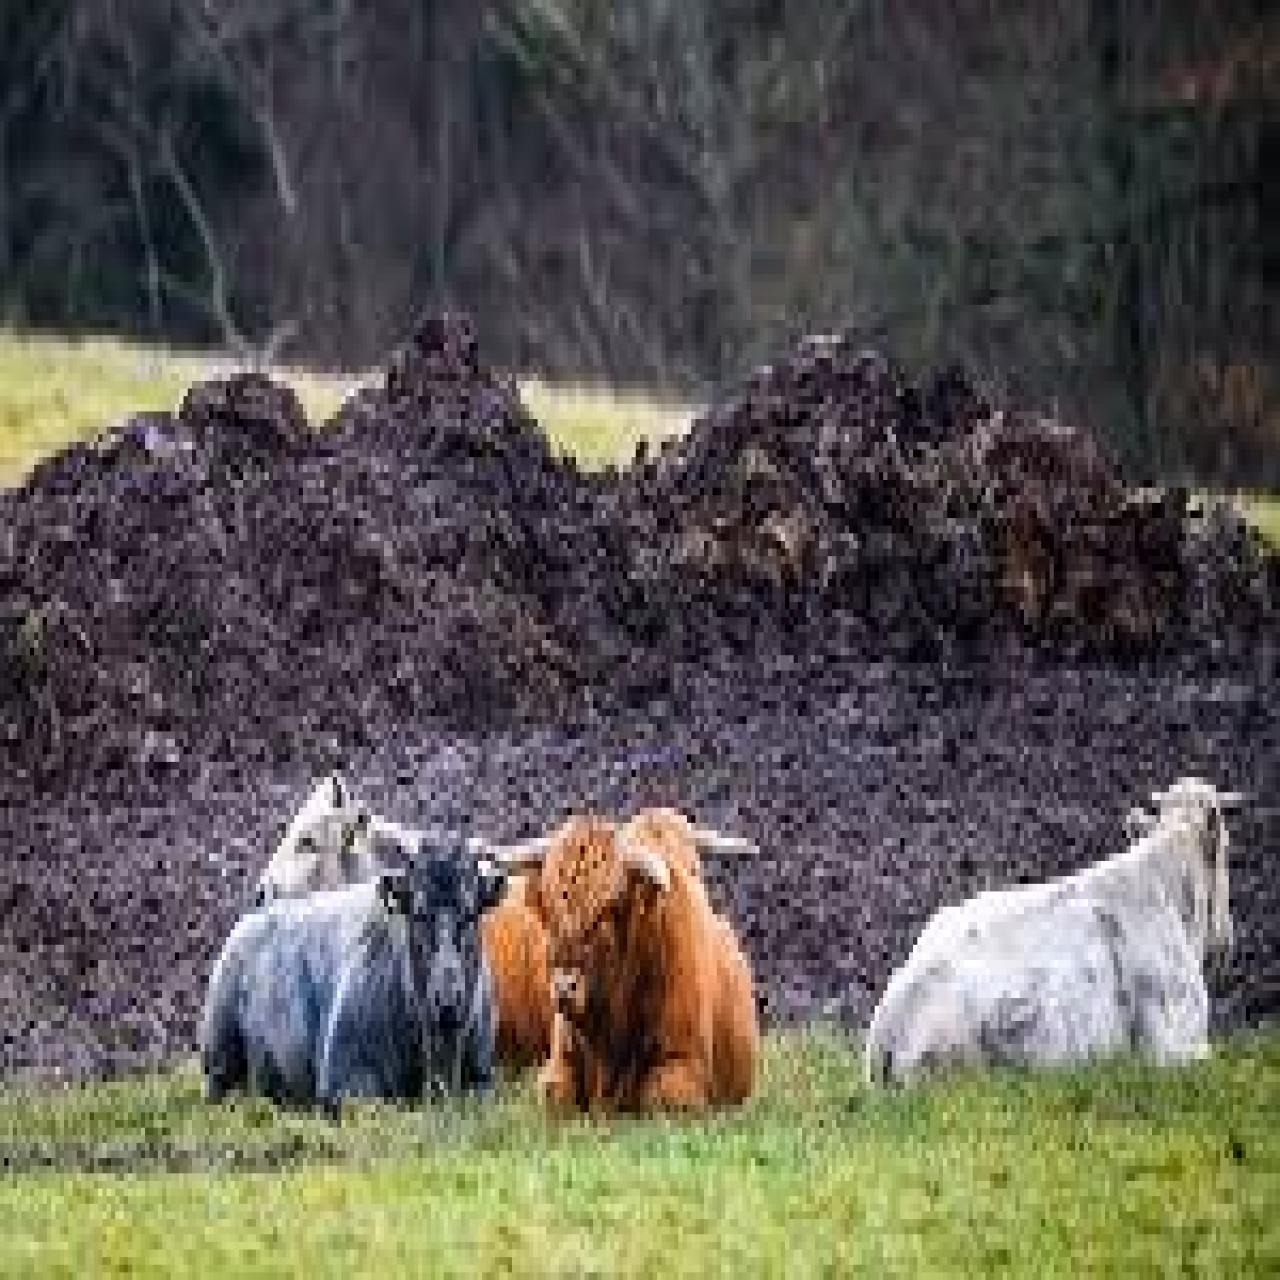cow: (866, 781, 1241, 1094), (198, 835, 510, 1124), (520, 799, 776, 1135), (252, 774, 495, 903)
